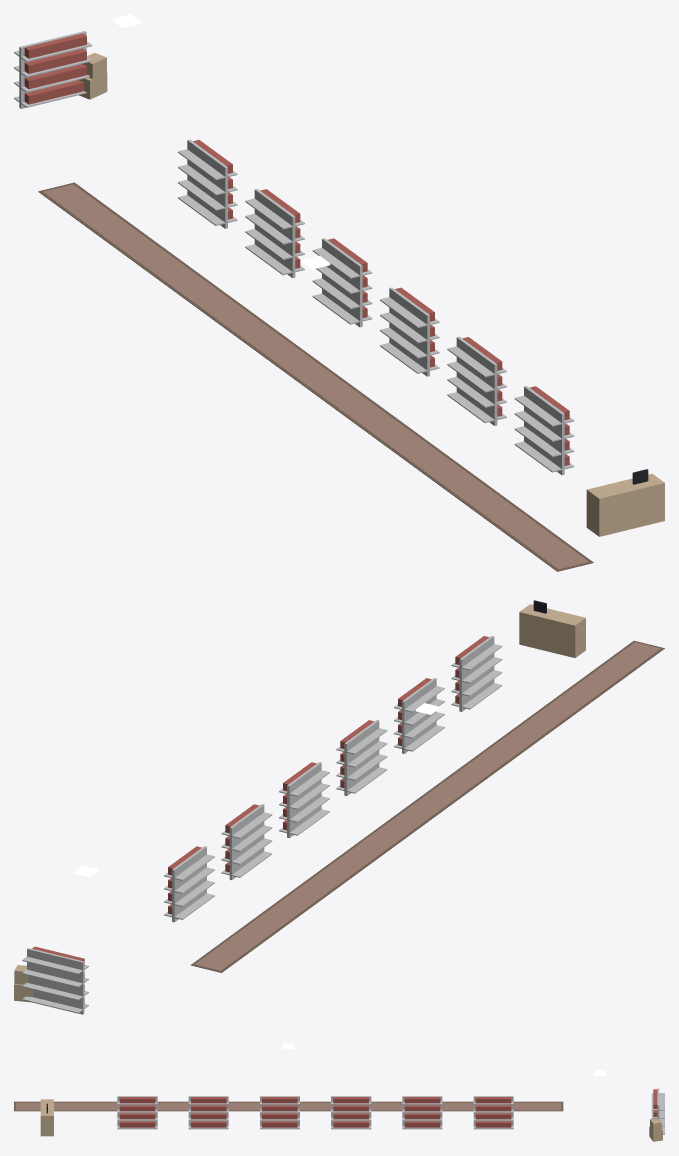
File: fine-s0.glb
3 renders of one model, top to bottom at view 1: azimuth 30°, elevation 25°; view 2: azimuth 150°, elevation 25°; view 3: azimuth 270°, elevation 25°, orthographic. The views are drawn at different scales.
Parts seen in each view (by area): view 1: soft-s0, shelving.000, shop-counter.000, shelf.004, shelf.001, shelf.005, shelf.000, shelf.003, shelf.002, cardboard-box.000; view 2: soft-s0, shelving.000, shop-counter.000, shelf.005, shelf.003, shelf.001, shelf.000, shelf.002, shelf.004; view 3: soft-s0, shelf.005, shelf.000, shelf.001, shelf.002, shelf.004, shelf.003, shop-counter.000, shelving.000, cardboard-box.000.
Part boxes in pixels (x1,y1,x2,y2): soft-s0: [38, 182, 593, 571]; shelving.000: [14, 31, 92, 108]; shop-counter.000: [586, 469, 664, 536]; shelf.004: [447, 336, 506, 425]; shelf.001: [245, 189, 304, 277]; shelf.005: [514, 386, 574, 475]; shelf.000: [178, 139, 237, 228]; shelf.003: [380, 287, 439, 376]; shelf.002: [312, 238, 372, 327]; cardboard-box.000: [78, 52, 107, 99]; soft-s0: [190, 640, 664, 972]; shelving.000: [22, 946, 88, 1014]; shop-counter.000: [519, 600, 585, 657]; shelf.005: [451, 636, 502, 711]; shelf.003: [336, 720, 387, 795]; shelf.001: [221, 804, 272, 880]; shelf.000: [164, 846, 214, 922]; shelf.002: [279, 762, 329, 838]; shelf.004: [394, 678, 444, 753]; soft-s0: [14, 1101, 563, 1111]; shelf.005: [117, 1096, 157, 1129]; shelf.000: [473, 1096, 513, 1129]; shelf.001: [402, 1096, 442, 1129]; shelf.002: [331, 1096, 371, 1129]; shelf.004: [188, 1096, 228, 1129]; shelf.003: [260, 1096, 299, 1129]; shop-counter.000: [40, 1099, 53, 1136]; shelving.000: [651, 1088, 664, 1134]; cardboard-box.000: [649, 1118, 662, 1141].
Size of the model in its own units: 4.23 by 3.03 by 29.25.
